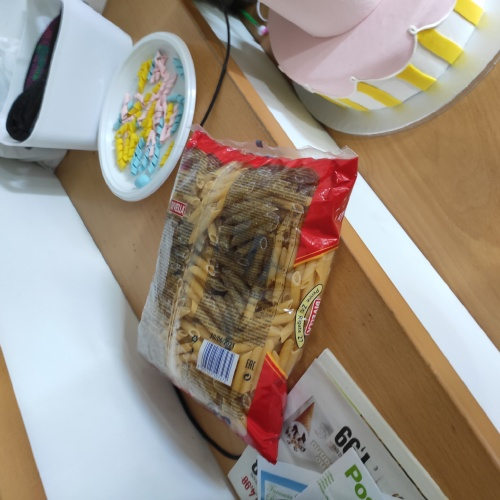pasta: (135, 157, 346, 410)
